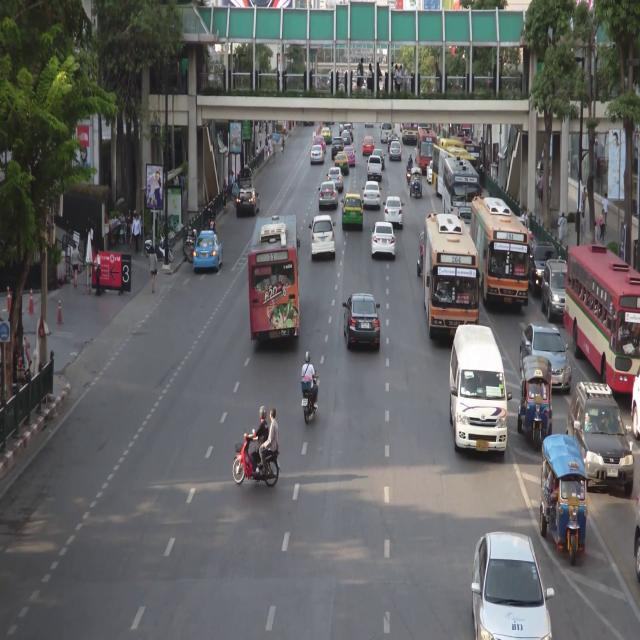bus: (568, 244, 640, 394), (425, 214, 479, 335), (471, 199, 528, 309), (251, 217, 299, 344), (443, 162, 479, 241), (433, 140, 470, 201), (450, 133, 480, 198), (417, 127, 438, 171), (402, 121, 418, 143)
car: (474, 531, 551, 640), (451, 327, 508, 458), (571, 379, 631, 494), (539, 439, 587, 561), (521, 321, 570, 395), (521, 355, 553, 449), (343, 297, 379, 352), (529, 240, 557, 300), (543, 258, 569, 320), (310, 215, 337, 258), (373, 220, 396, 259), (384, 196, 403, 228), (237, 188, 260, 214), (633, 367, 640, 440), (318, 183, 340, 206), (365, 181, 382, 208), (326, 165, 343, 191), (368, 156, 382, 180), (239, 169, 254, 191), (412, 169, 423, 196), (380, 121, 392, 143), (372, 149, 385, 169), (332, 137, 344, 158), (311, 145, 324, 164), (390, 141, 402, 160), (342, 124, 353, 139), (388, 134, 399, 149), (426, 161, 433, 184), (341, 132, 351, 145)
pedestrian: (70, 243, 80, 288), (93, 249, 102, 296), (149, 245, 157, 293), (133, 214, 141, 252), (602, 193, 608, 228), (580, 214, 587, 242), (600, 208, 605, 243), (232, 178, 238, 206), (581, 185, 587, 212), (559, 212, 564, 244), (593, 221, 599, 244), (266, 133, 272, 154), (223, 180, 227, 211), (229, 169, 234, 192), (120, 211, 125, 231), (180, 170, 184, 194), (539, 175, 542, 203), (174, 173, 179, 188), (273, 144, 277, 162), (282, 134, 285, 153), (259, 140, 263, 150), (255, 146, 259, 154)
taxi: (195, 232, 224, 271), (343, 193, 363, 231), (335, 151, 349, 174), (363, 136, 375, 155), (344, 147, 355, 165), (314, 137, 326, 152), (321, 128, 332, 142)
